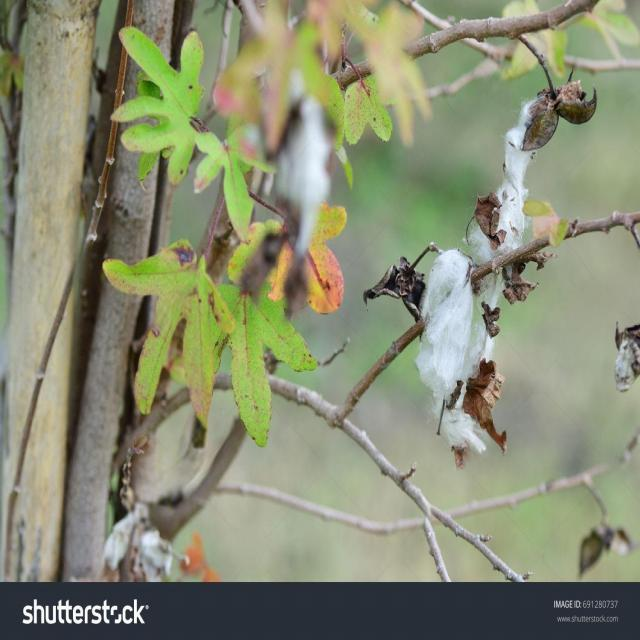Early_blight: (469, 86, 599, 266)
